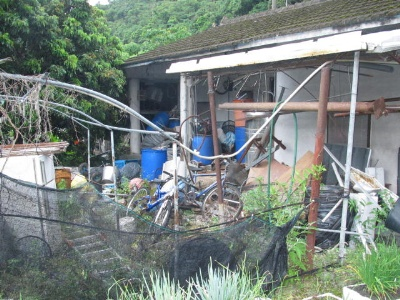bucket: (139, 147, 168, 184), (190, 132, 214, 167), (100, 162, 119, 185)
